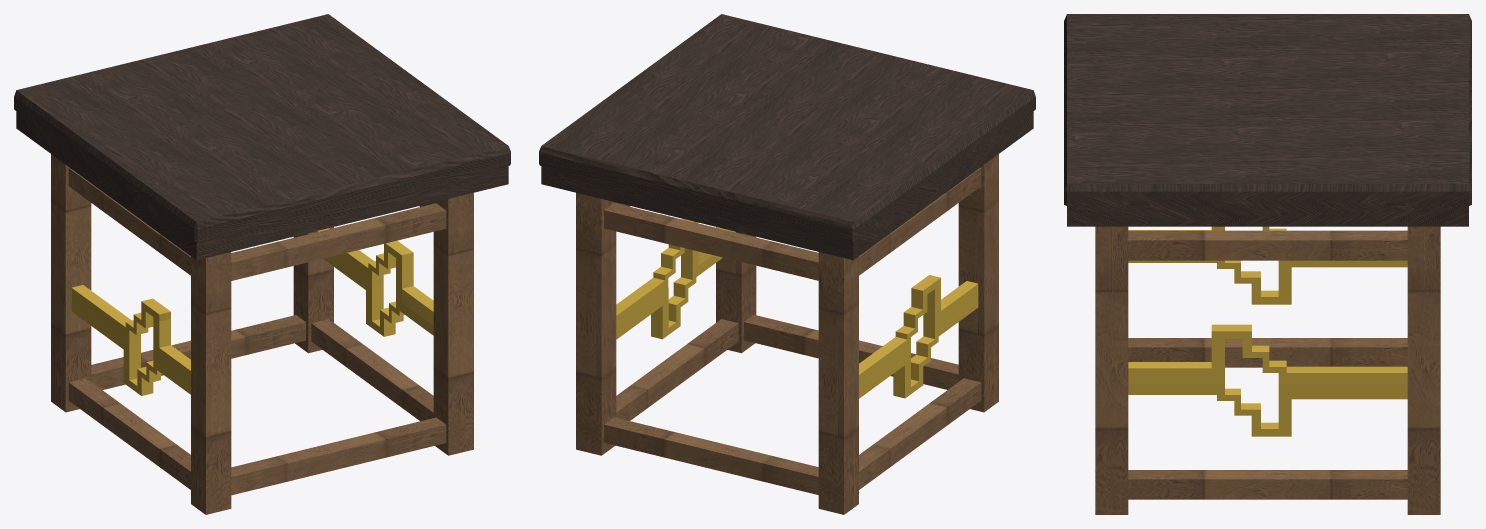
Rendered from simple_wooden_side_table.glb.
3 views of the same model, side by side, from view 1: azimuth 30°, elevation 25°; view 2: azimuth 150°, elevation 25°; view 3: azimuth 270°, elevation 25° (orthographic). The views are drawn at different scales.
Parts seen in each view (by area): view 1: Cube.022_Material.013_0, Cube.022_Material.011_0, Cube.022_Material.014_0; view 2: Cube.022_Material.013_0, Cube.022_Material.011_0, Cube.022_Material.014_0; view 3: Cube.022_Material.013_0, Cube.022_Material.011_0, Cube.022_Material.014_0.
Part boxes in pixels (box(x1,y1,x2,y2)): Cube.022_Material.013_0: box(14, 14, 510, 260); Cube.022_Material.011_0: box(51, 154, 473, 514); Cube.022_Material.014_0: box(71, 228, 433, 395); Cube.022_Material.013_0: box(539, 14, 1035, 260); Cube.022_Material.011_0: box(576, 154, 998, 514); Cube.022_Material.014_0: box(616, 218, 978, 398); Cube.022_Material.013_0: box(1064, 14, 1471, 226); Cube.022_Material.011_0: box(1095, 226, 1440, 514); Cube.022_Material.014_0: box(1128, 226, 1407, 436).
Size of the model in its own units: 1.74 by 1.62 by 1.74.
3 materials, 3 textured.
